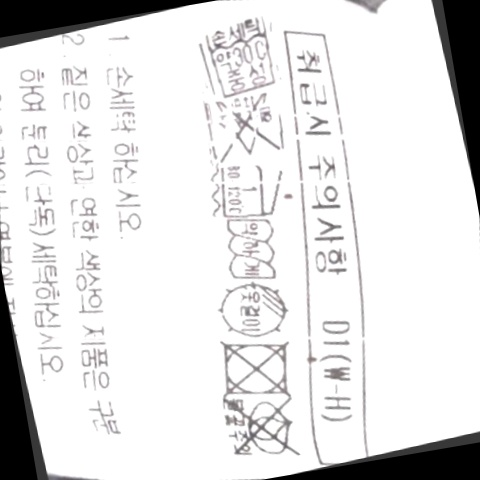DN_tumble_dry: (203, 324, 305, 411)
hand_wash: (191, 12, 288, 103)
iron_low: (206, 152, 290, 229)
line_dry_in_shade: (206, 271, 301, 349)
wring: (214, 210, 287, 291)
